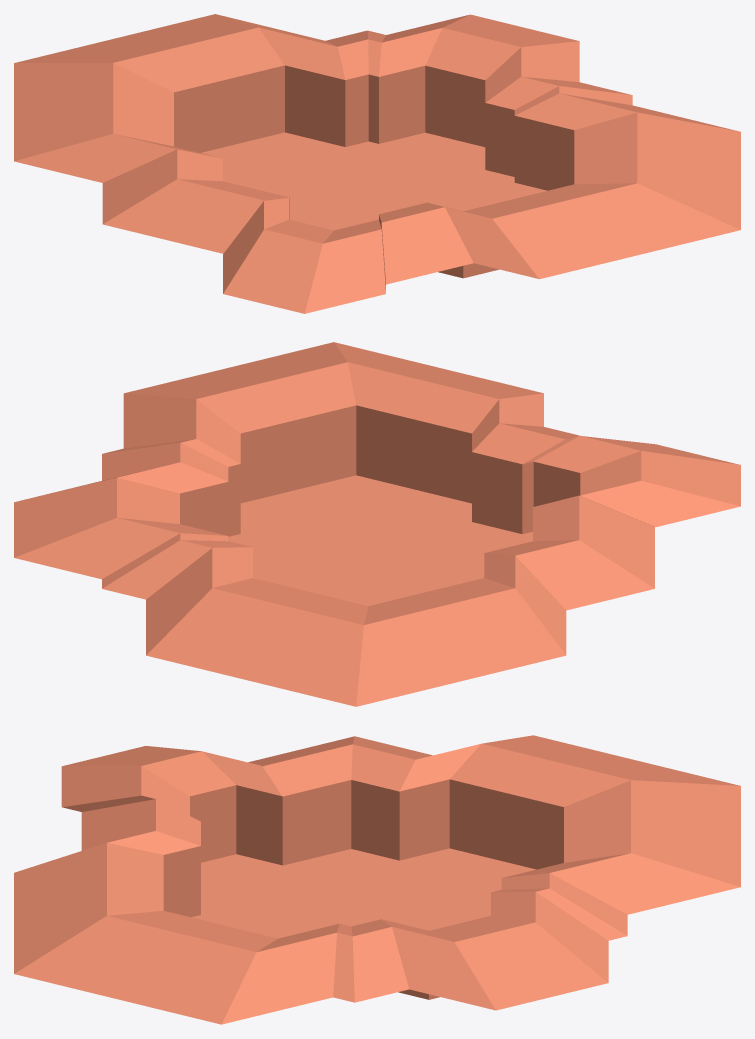
File: LavaHole.fbx
3 views of the same model, one above another, from view 1: azimuth 30°, elevation 25°; view 2: azimuth 150°, elevation 25°; view 3: azimuth 270°, elevation 25° (orthographic). The views are drawn at different scales.
Parts seen in each view (by area): view 1: rock; view 2: rock; view 3: rock.
Part boxes in pixels (box(x1,y1,x2,y2)): rock: box(14, 14, 740, 313); rock: box(14, 342, 740, 706); rock: box(14, 735, 740, 1024).
Size of the model in its own units: 58.42 by 7.72 by 62.02.
